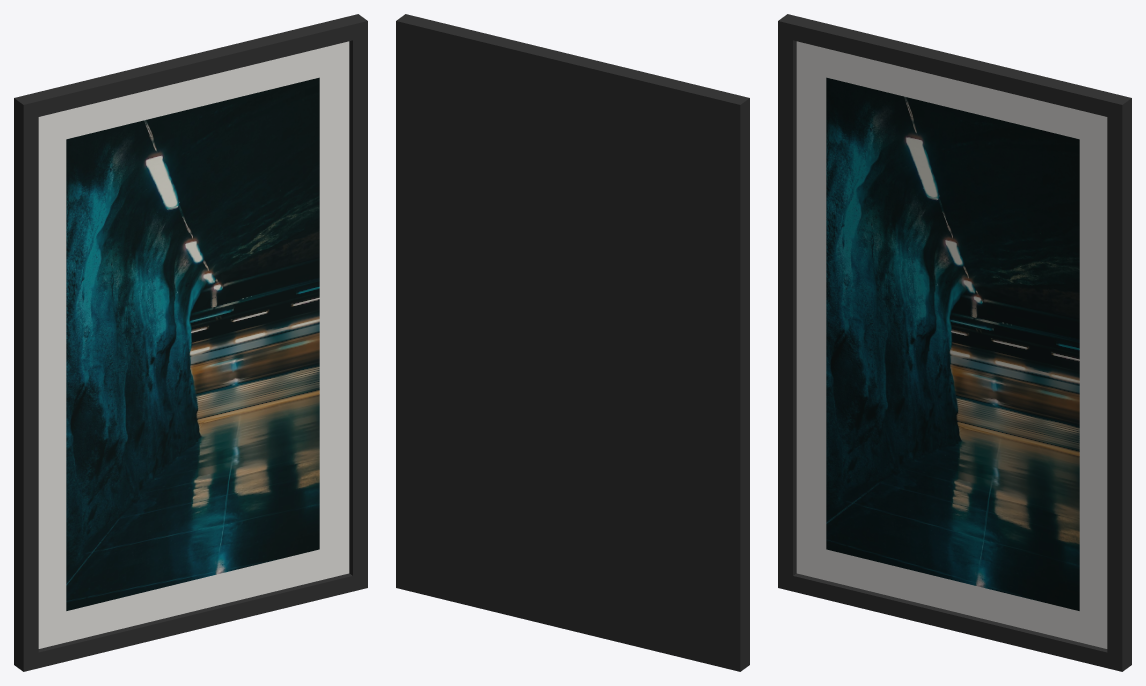
File: grottan-60.gltf
The picture shows the model from 3 angles, left to right: view 1: azimuth 30°, elevation 25°; view 2: azimuth 150°, elevation 25°; view 3: azimuth 330°, elevation 25°; orthographic projection.
Parts seen in each view (by area): view 1: tavla; view 2: tavla; view 3: tavla.
Boxes of the visible parts, box(x1,y1,x2,y2) form: tavla: box(14, 14, 367, 671); tavla: box(396, 14, 749, 671); tavla: box(778, 14, 1131, 671).
Size of the model in its own units: 0.4583 by 0.721 by 0.022.
Materials: 3 (1 with a texture image).
